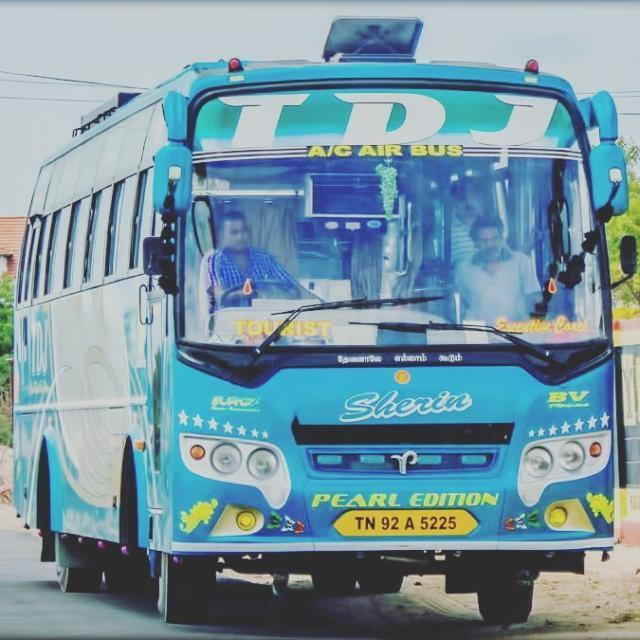Bus: (9, 12, 640, 626)
